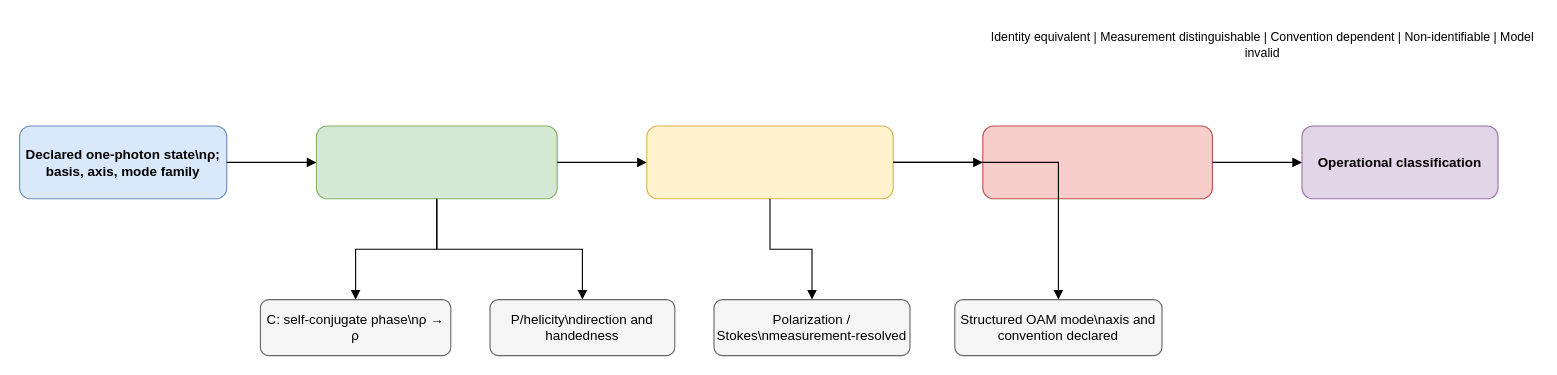
Some shapes in this 1557 by 375 pixel diagram are drawn without their labels. The shapes that lost their labels are listed below. From the top down, each one's centre as x and y in pixels, then its label:
the point at 436,162: Transformation declaration\nC, P/helicity, direction, polarization, OAM
the point at 769,162: State and provenance checks\ntrace, positivity, unitary/antiunitary scope
the point at 1097,162: Declared measurement context\nStokes, direction, OAM projectors
